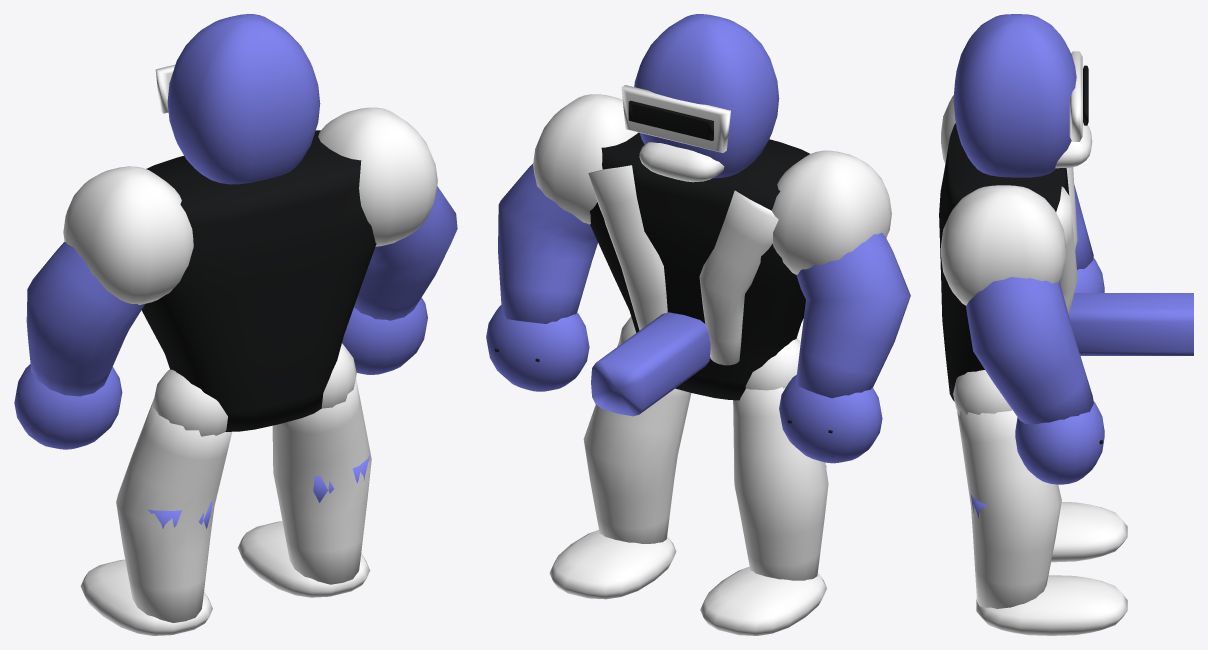
The model's file is RoboManus.glb.
The picture shows the model from 3 angles, left to right: view 1: azimuth 30°, elevation 25°; view 2: azimuth 150°, elevation 25°; view 3: azimuth 270°, elevation 25°; orthographic projection. The views are drawn at different scales.
Visible parts, largest first — view 1: Body, LeftArm, LeftLeg, Head, RightArm, RightLeg; view 2: Body, LeftArm, RightArm, LeftLeg, RightLeg, Head, Weapon, Jaw; view 3: RightArm, RightLeg, Head, Body, Weapon, LeftLeg, LeftArm, Jaw.
Boxes of the visible parts, x1,y1,x2,y2 form: Body: (141,130,376,431); LeftArm: (14,166,193,449); LeftLeg: (80,369,232,635); Head: (155,14,320,184); RightArm: (318,107,457,374); RightLeg: (238,343,371,597); Body: (588,132,809,400); LeftArm: (771,150,910,463); RightArm: (486,94,637,391); LeftLeg: (700,338,828,635); RightLeg: (549,316,691,599); Head: (621,14,779,178); Weapon: (591,312,710,416); Jaw: (639,142,724,182); RightArm: (941,185,1104,484); RightLeg: (953,370,1127,635); Head: (953,14,1088,177); Body: (939,123,1077,401); Weapon: (1069,293,1193,355); LeftLeg: (1051,502,1127,562); LeftArm: (941,95,1104,292); Jaw: (1055,120,1092,168).
Size of the model in its own units: 1.85 by 2.52 by 1.02.
1 material, 1 textured.
